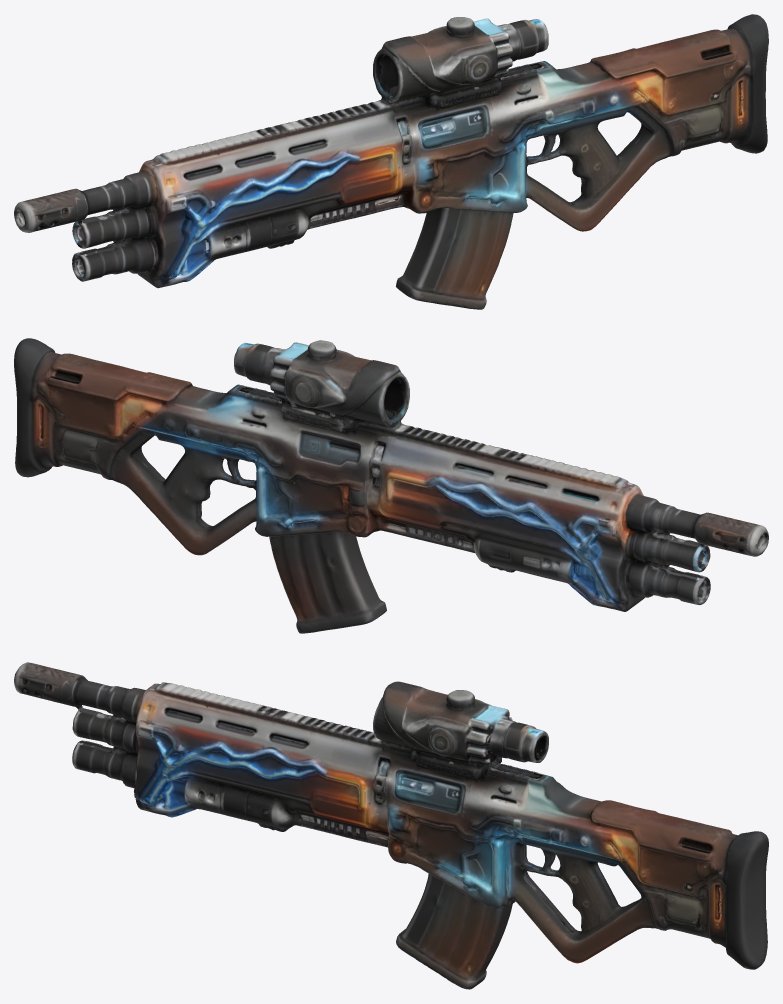
Rendered from Rifle.fbx.
3 renders of one model, top to bottom at view 1: azimuth 30°, elevation 25°; view 2: azimuth 150°, elevation 25°; view 3: azimuth 330°, elevation 25°, orthographic.
Visible parts, largest first — view 1: Mesh1.0; view 2: Mesh1.0; view 3: Mesh1.0.
Boxes of the visible parts, <box> form: Mesh1.0: <box>14,14,768,309</box>; Mesh1.0: <box>14,338,768,633</box>; Mesh1.0: <box>14,662,768,989</box>.
Bounding box in the file's own units: 191 × 70.45 × 17.65.
1 material, 1 textured.
